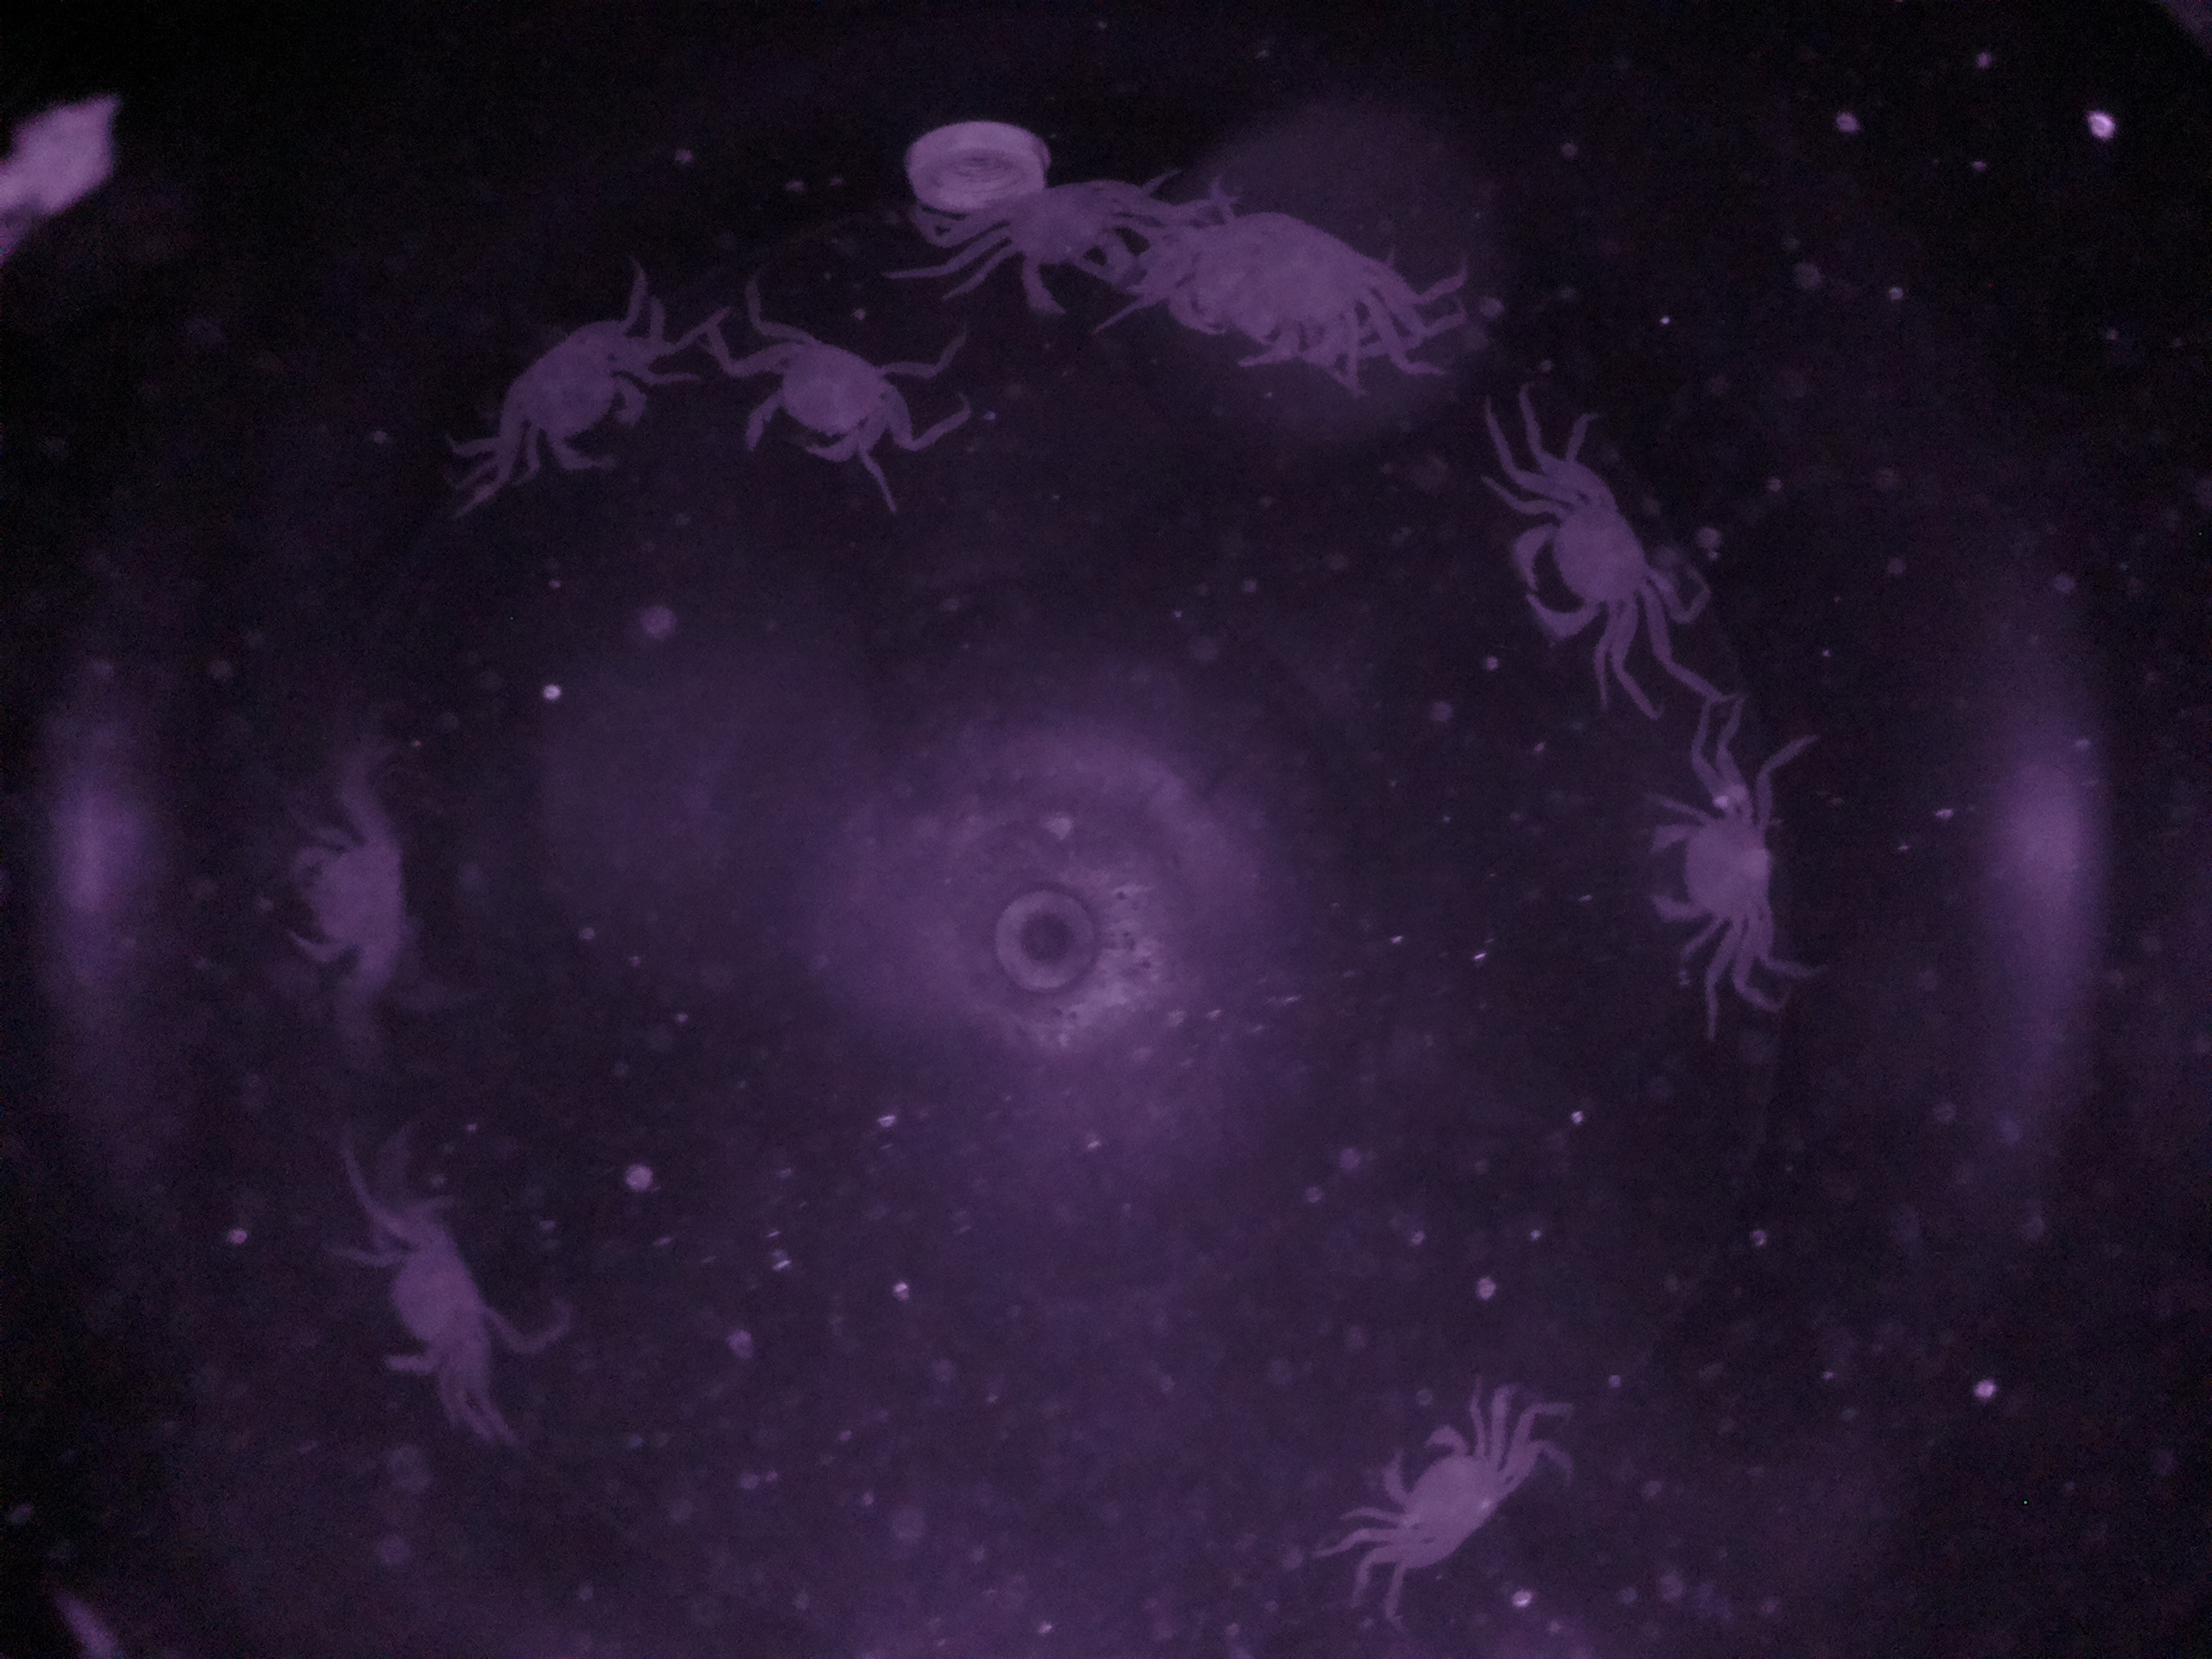Crab: (1501, 465, 1684, 669), (482, 308, 674, 498), (1362, 1399, 1545, 1582), (723, 312, 911, 486), (970, 146, 1148, 329), (1635, 782, 1794, 965)
